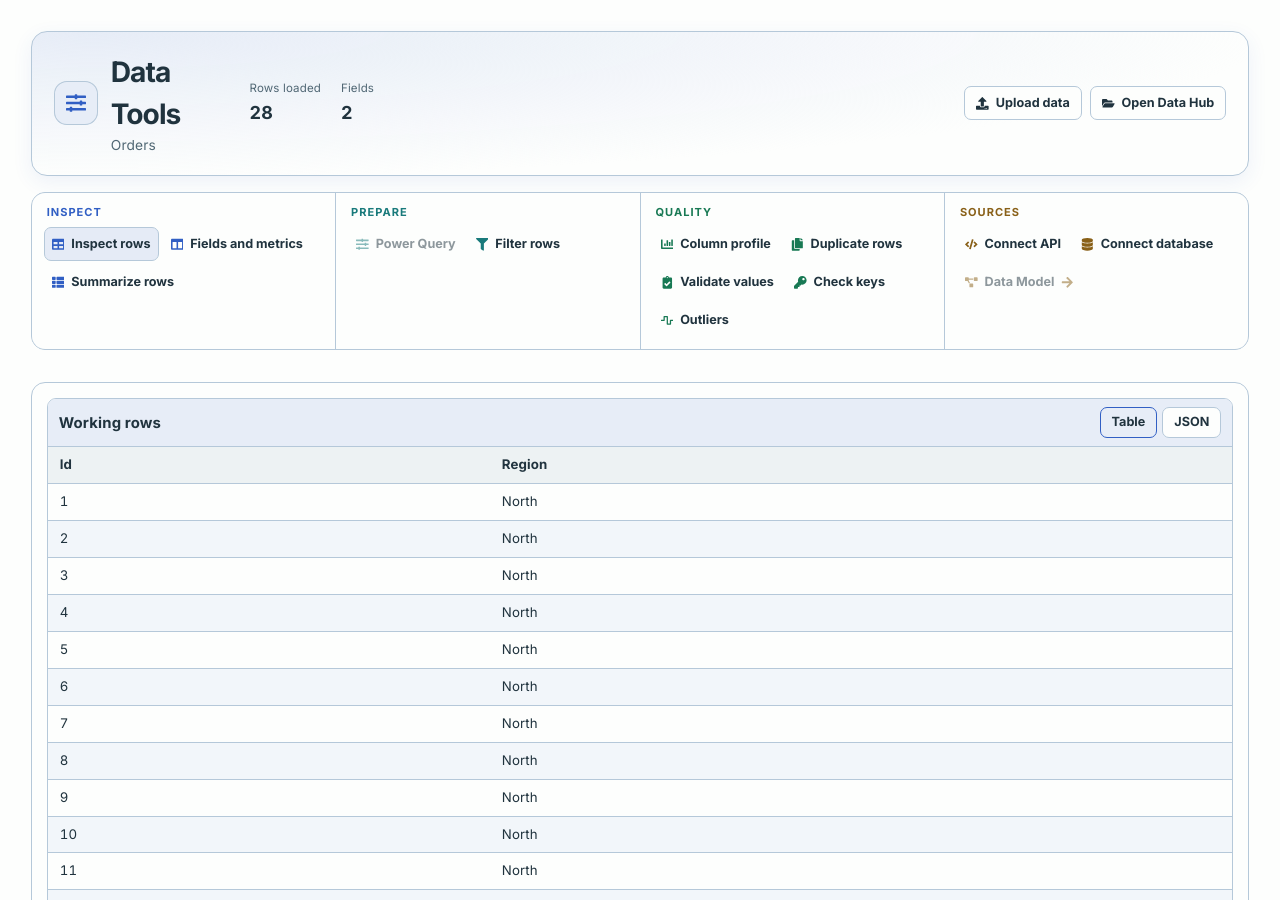
it: runs outliers using the exact source context and reports the result in the page
The width and height of the screenshot is (1280, 900).
Click the button "Outliers": (695, 320) [652,303,737,337]
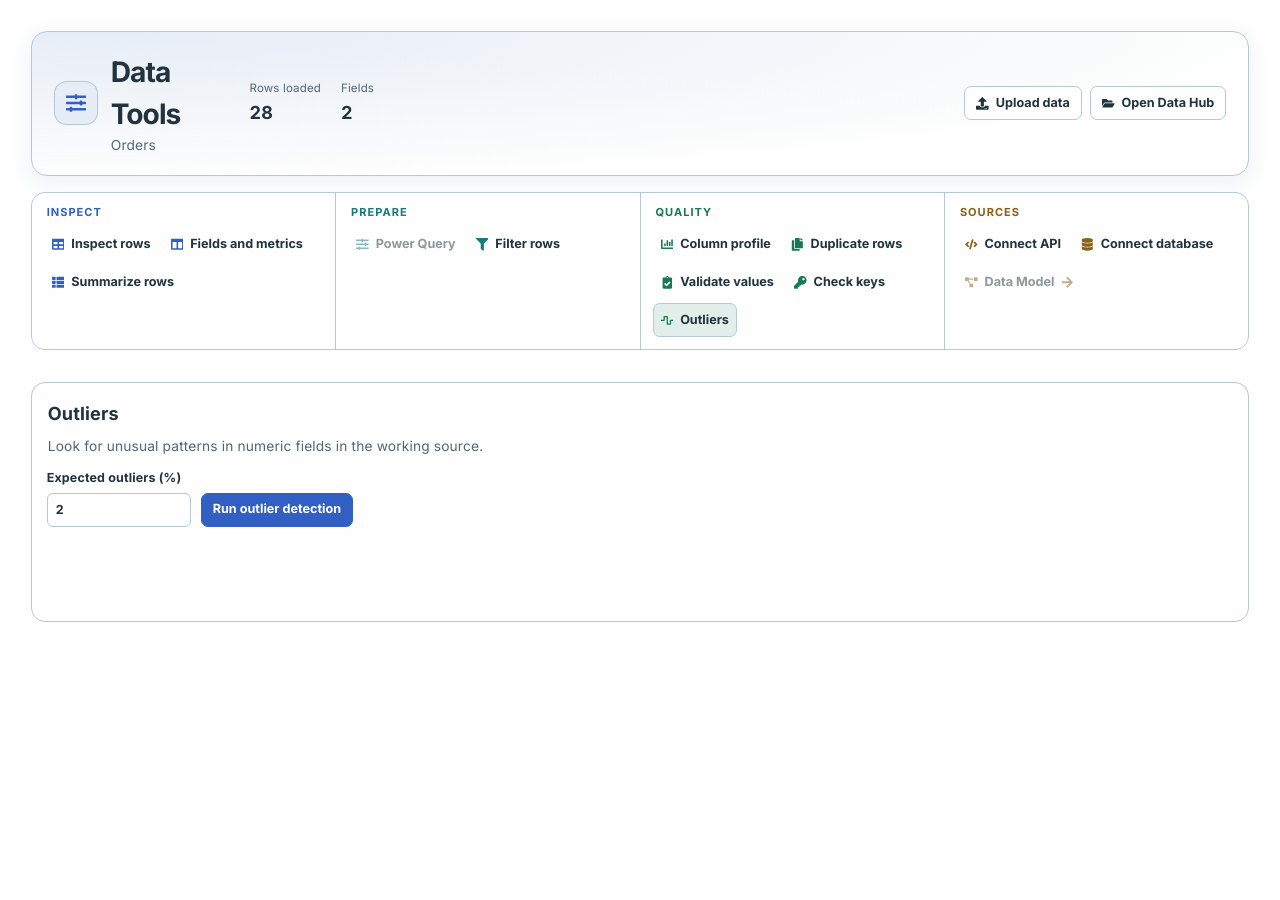
Replace the text in the number field labelled "Expected outliers (%)" with "5": (119, 510) [47,493,191,527]
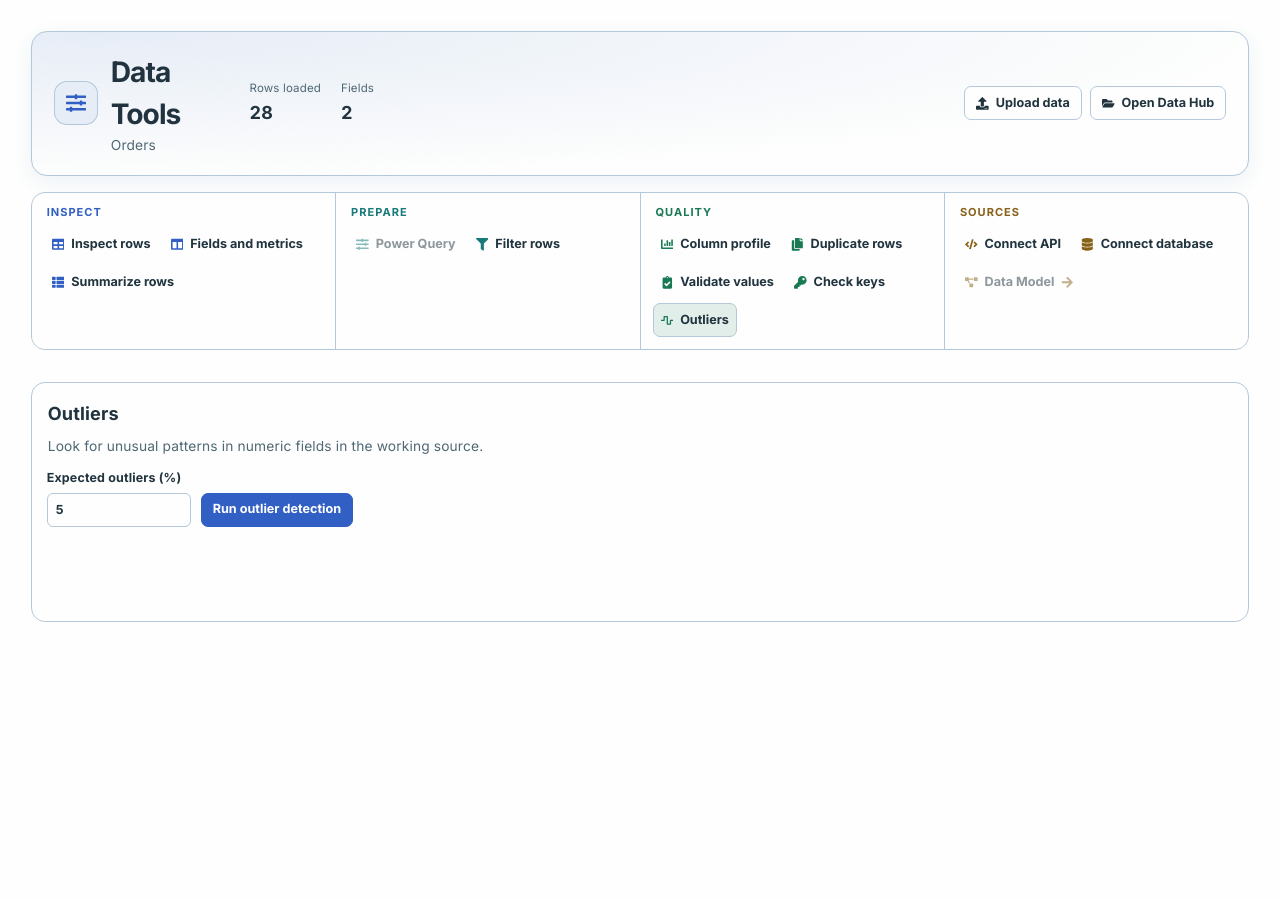
Click the button "Run outlier detection": (277, 510) [201,493,353,527]
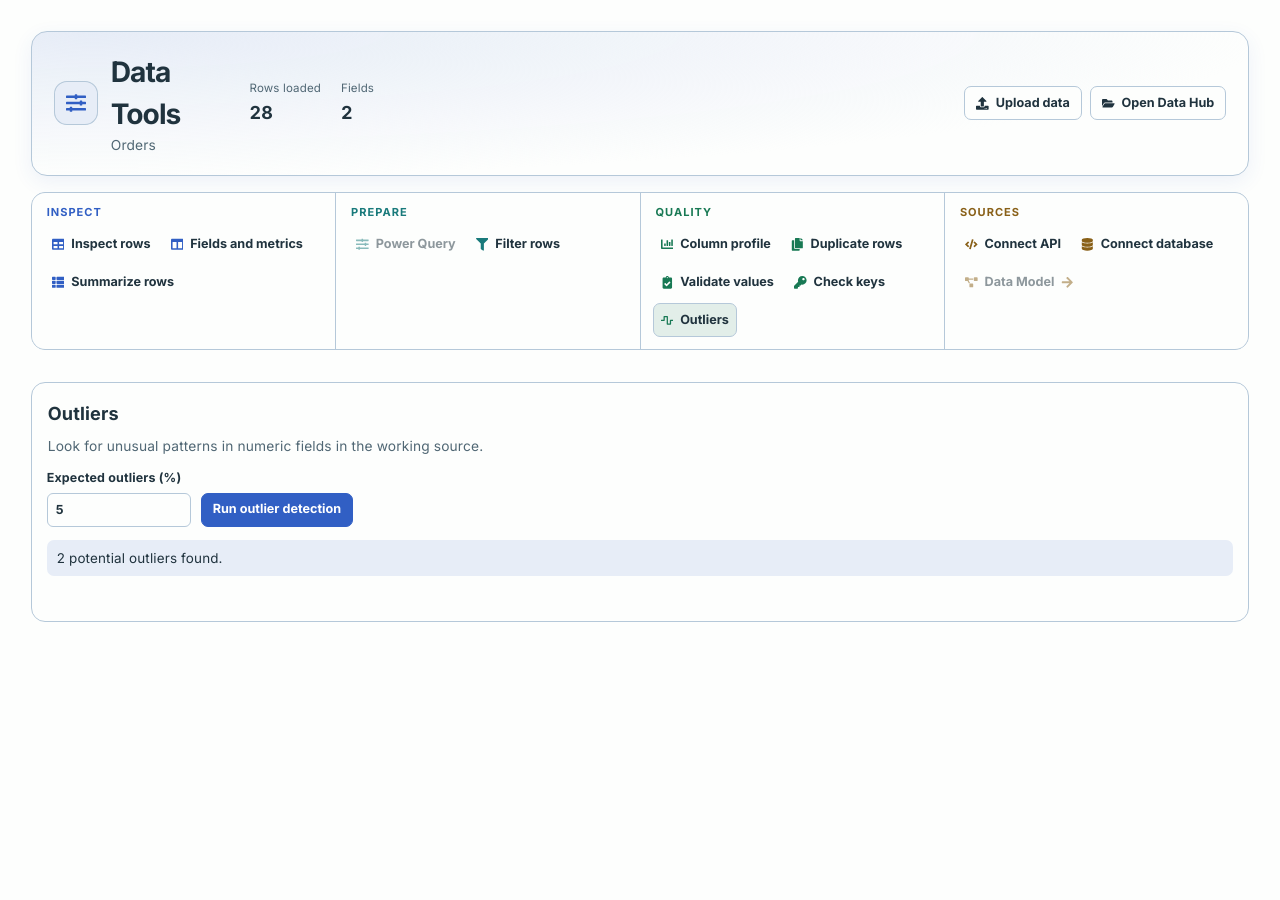
Expected: the message reads "2 potential outliers found.", [47,540,1233,576]
